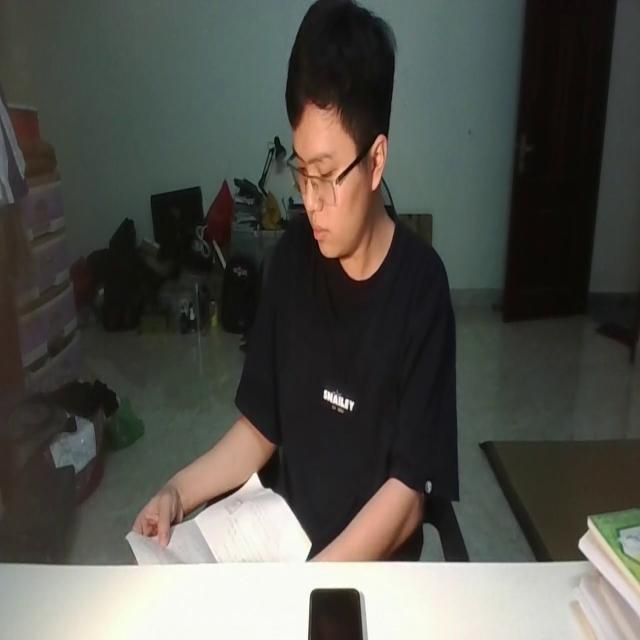book: (126, 469, 313, 563)
phone: (307, 584, 365, 640)
student: (122, 0, 462, 561)
